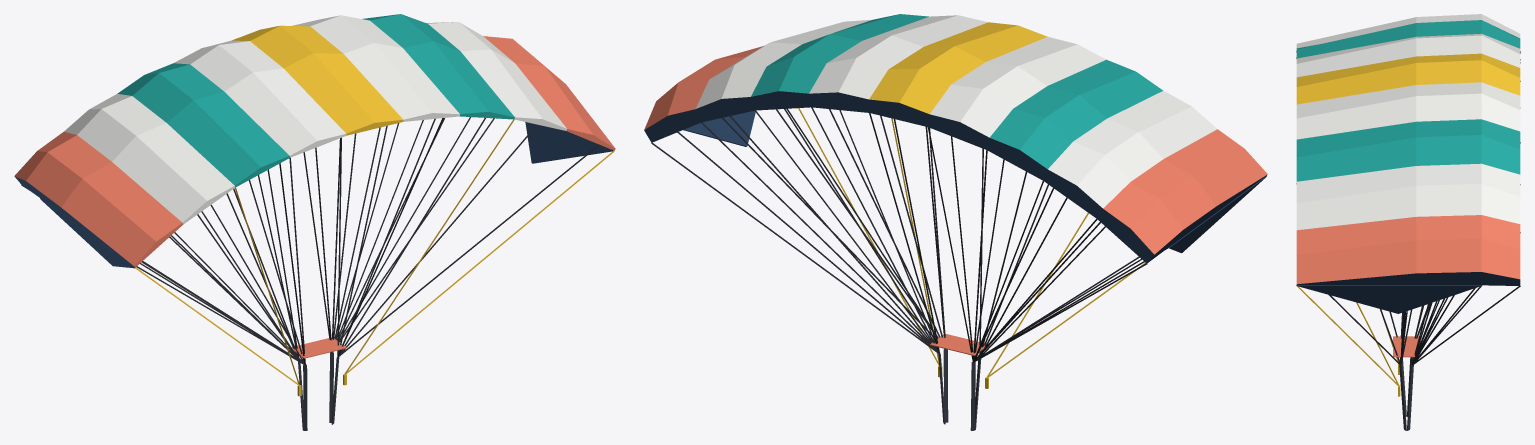
The model's file is parachute_canopy.glb.
The picture shows the model from 3 angles, left to right: view 1: azimuth 30°, elevation 25°; view 2: azimuth 150°, elevation 25°; view 3: azimuth 270°, elevation 25°; orthographic projection. The views are drawn at different scales.
Visible parts, largest first — view 1: Canopy, Lines; view 2: Canopy, Lines; view 3: Canopy, Lines.
Part boxes in pixels (x1=…): Canopy: x1=14, y1=14, x2=615, y2=268; Lines: x1=21, y1=117, x2=614, y2=430; Canopy: x1=644, y1=14, x2=1267, y2=263; Lines: x1=651, y1=107, x2=1168, y2=430; Canopy: x1=1296, y1=14, x2=1520, y2=313; Lines: x1=1296, y1=51, x2=1520, y2=430.
Bounding box in the file's own units: 7.42 × 5.21 × 2.92.
